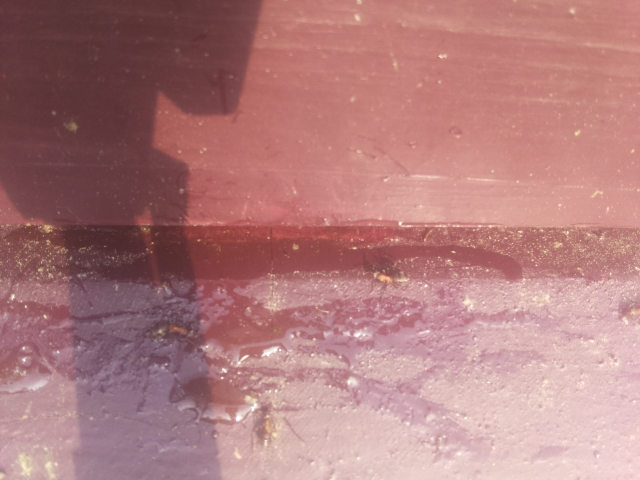ant: (0, 342, 49, 389), (255, 405, 277, 453), (149, 319, 194, 341), (617, 298, 640, 328)
